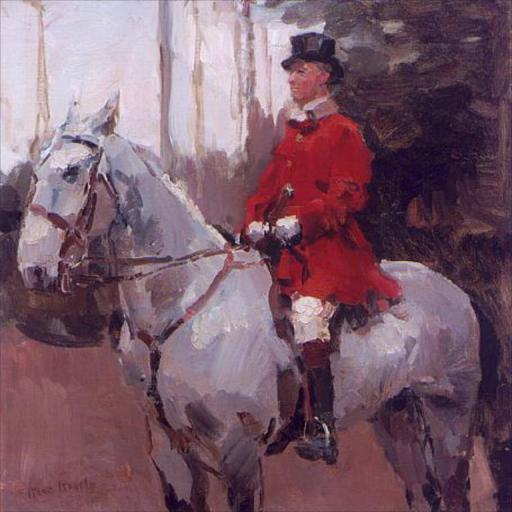horse: (14, 93, 504, 511)
